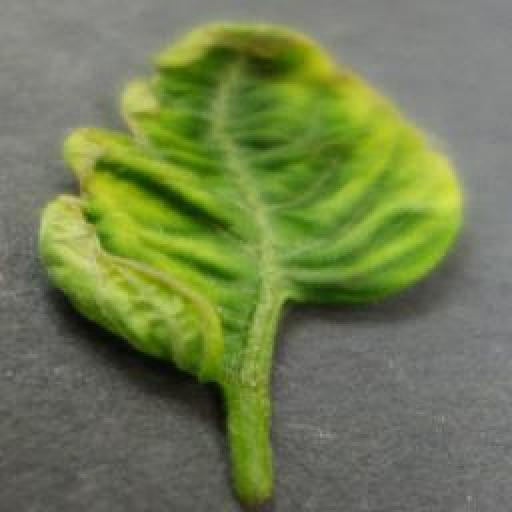Yellow Leaf Curl Virus: (39, 20, 468, 384)
